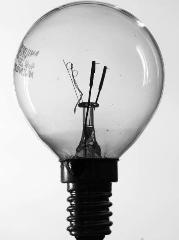lightbulb: (13, 0, 165, 240)
